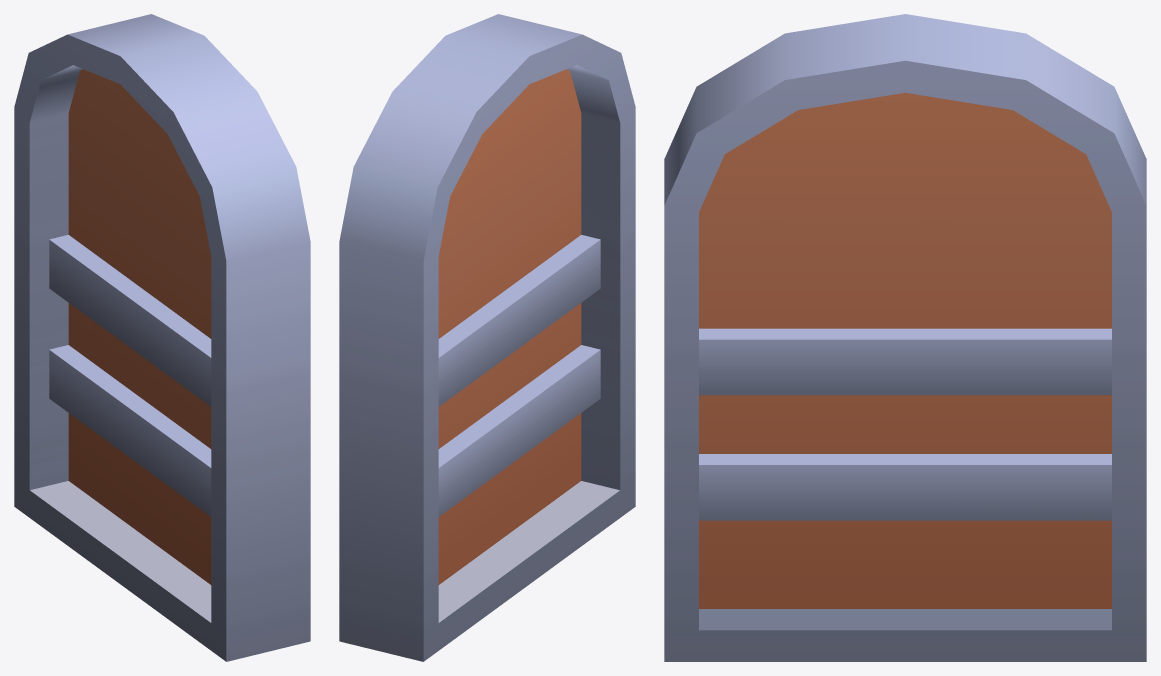
Rendered from kenney-castle-gate.glb.
3 renders of one model, left to right at view 1: azimuth 30°, elevation 25°; view 2: azimuth 150°, elevation 25°; view 3: azimuth 270°, elevation 25°, orthographic. The views are drawn at different scales.
Visible parts, largest first — view 1: gate; view 2: gate; view 3: gate.
Boxes of the visible parts, left/top/right/bottom form: gate: left=14, top=14, right=310, bottom=661; gate: left=339, top=14, right=635, bottom=661; gate: left=664, top=14, right=1146, bottom=661.
Size of the model in its own units: 0.1516 by 0.9103 by 0.6622.
Materials: 1 (1 with a texture image).
